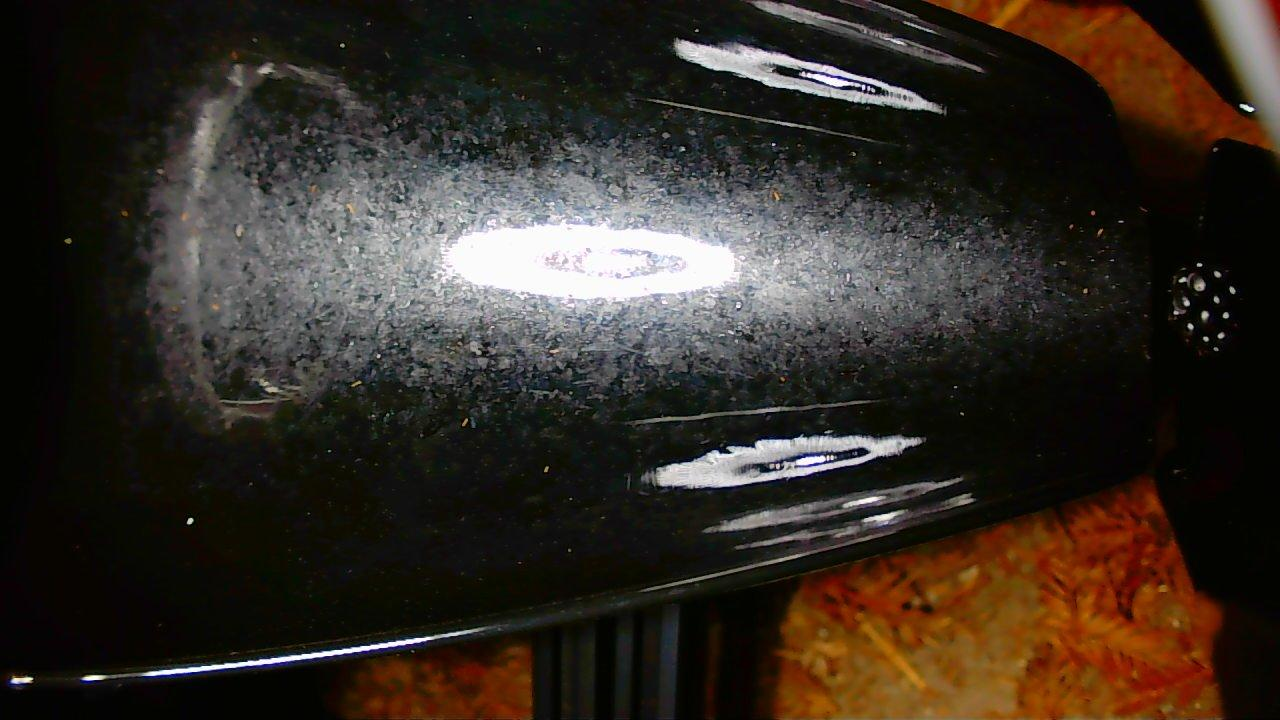berry: (1168, 262, 1240, 355)
